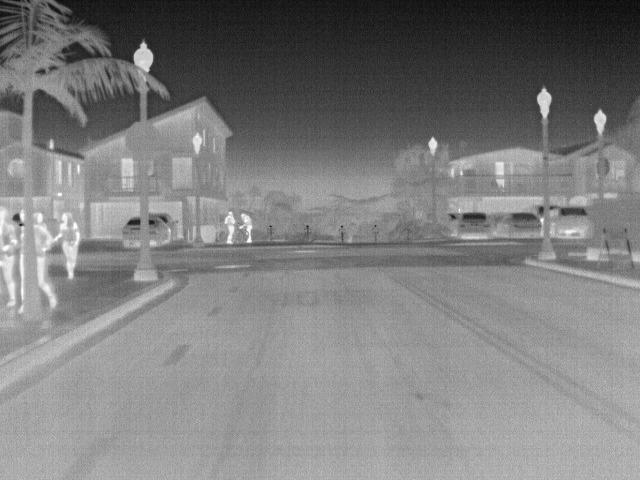car: (493, 210, 542, 239), (549, 206, 592, 238), (461, 212, 493, 239), (122, 214, 143, 248), (153, 212, 179, 239), (151, 216, 170, 246)
person: (33, 225, 63, 306), (55, 212, 82, 281), (1, 225, 21, 307), (221, 209, 238, 244), (238, 211, 255, 242), (33, 211, 52, 233)
